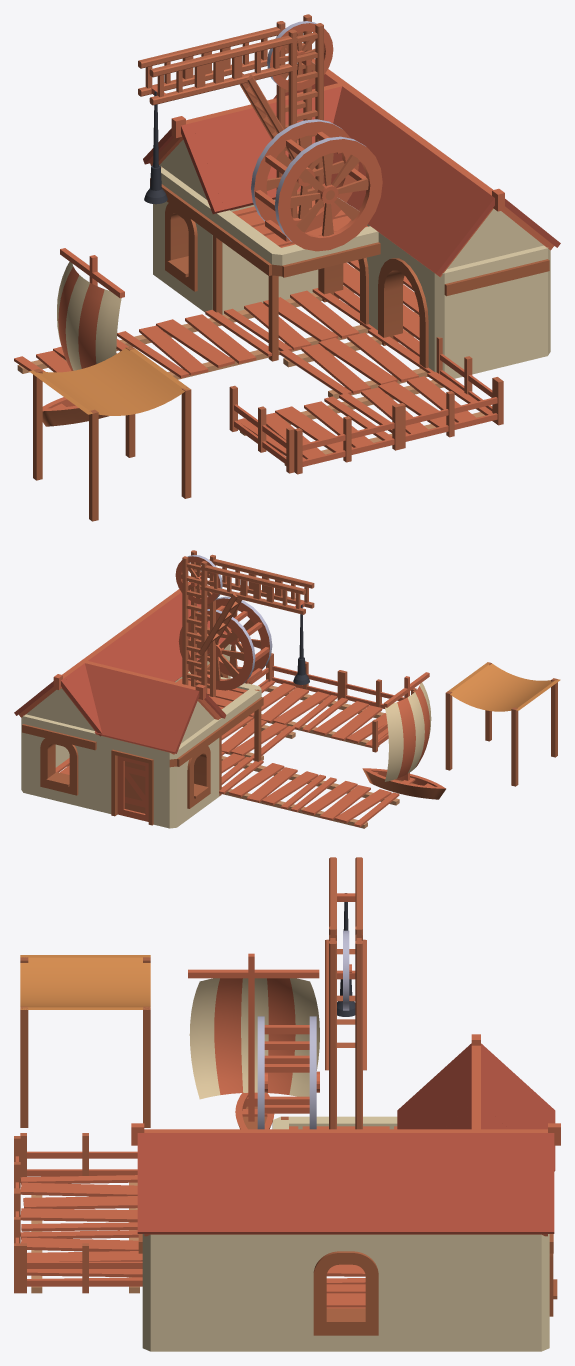
The model's file is port.glb.
The picture shows the model from 3 angles, top to bottom: view 1: azimuth 30°, elevation 25°; view 2: azimuth 150°, elevation 25°; view 3: azimuth 270°, elevation 25°; orthographic projection. The views are drawn at different scales.
Visible parts, largest first — view 1: mergedBlocks(Clone); view 2: mergedBlocks(Clone); view 3: mergedBlocks(Clone).
Boxes of the visible parts, x1,y1,x2,y2 form: mergedBlocks(Clone): [14, 14, 560, 521]; mergedBlocks(Clone): [14, 550, 560, 828]; mergedBlocks(Clone): [14, 857, 560, 1351].
Size of the model in its own units: 5.12 by 2.81 by 4.2.
Materials: 1 (1 with a texture image).
